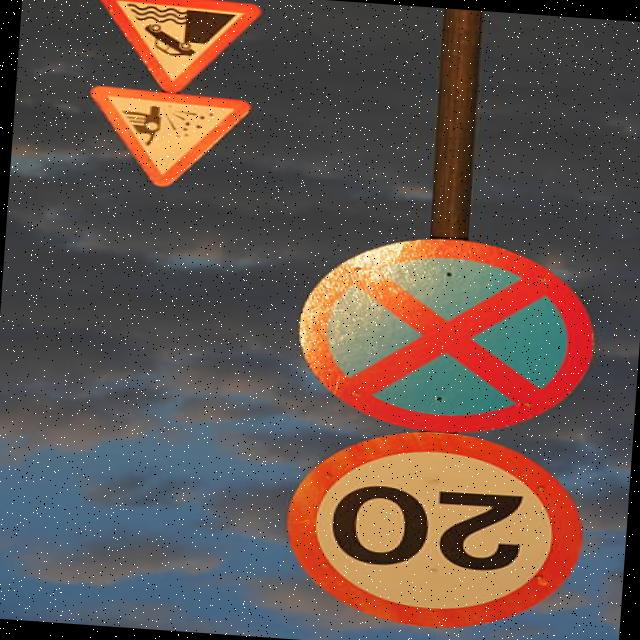speed_limit_20: (227, 413, 614, 640)
